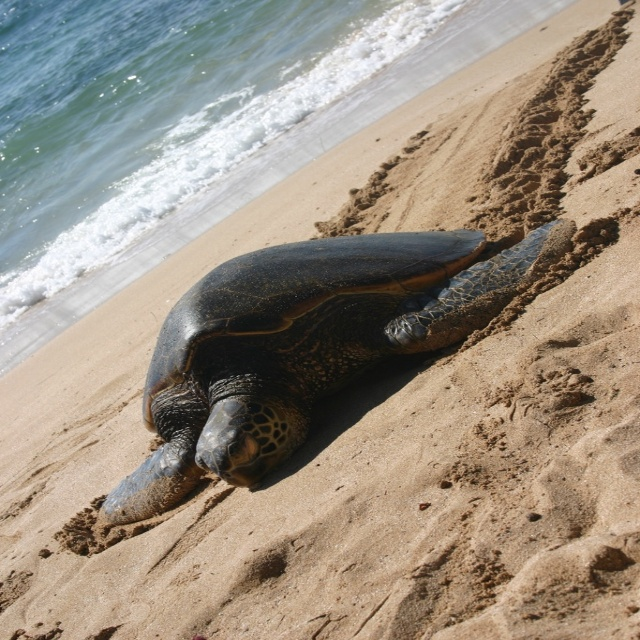Tortoise: (98, 218, 579, 525)
